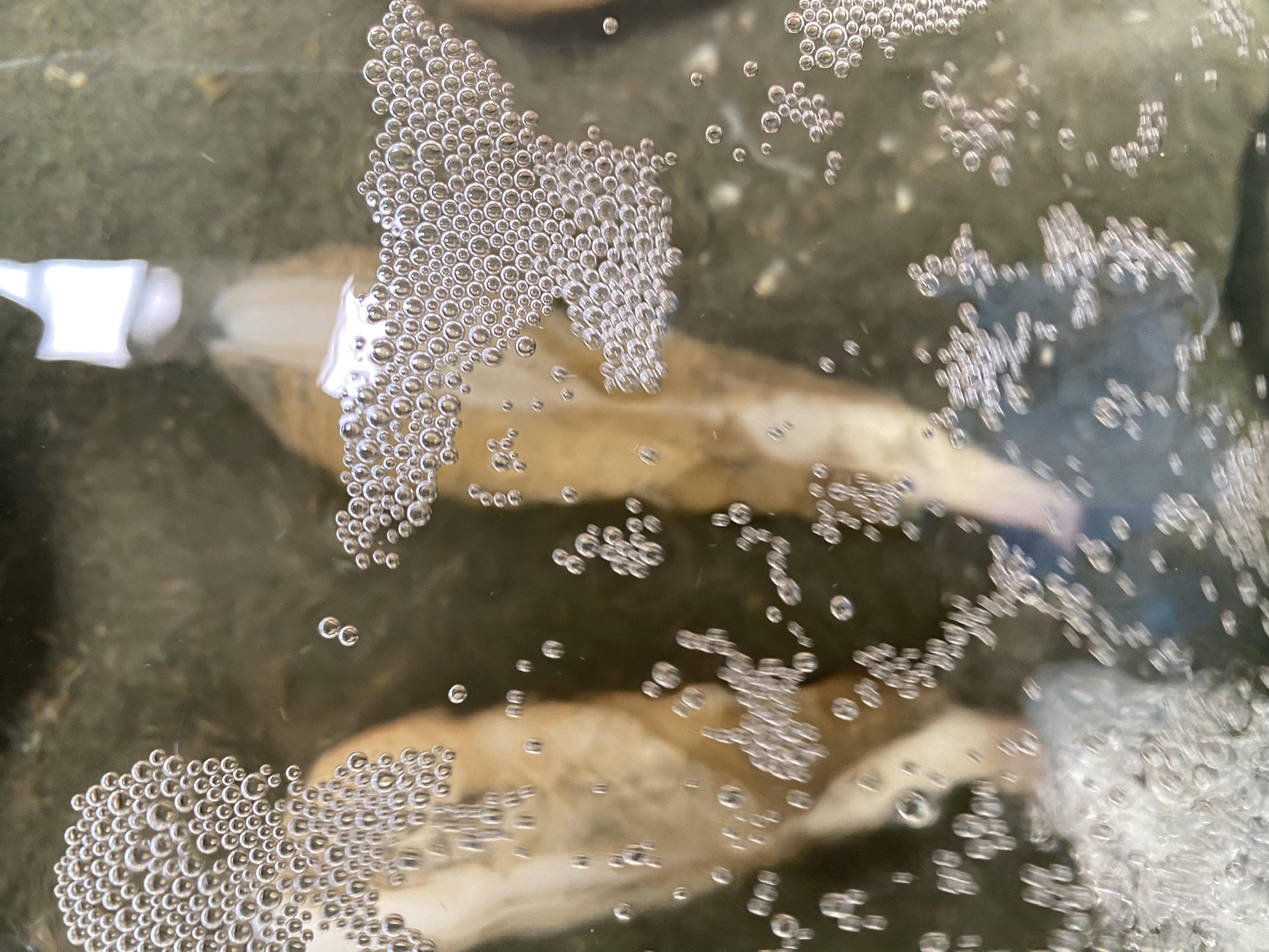Healthy: (308, 632, 1024, 952), (440, 314, 1079, 541), (697, 357, 1079, 537), (209, 246, 408, 473)
